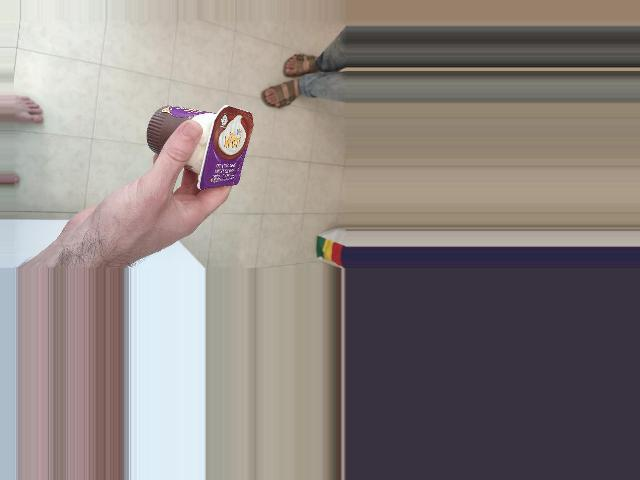milky: (143, 104, 254, 183)
